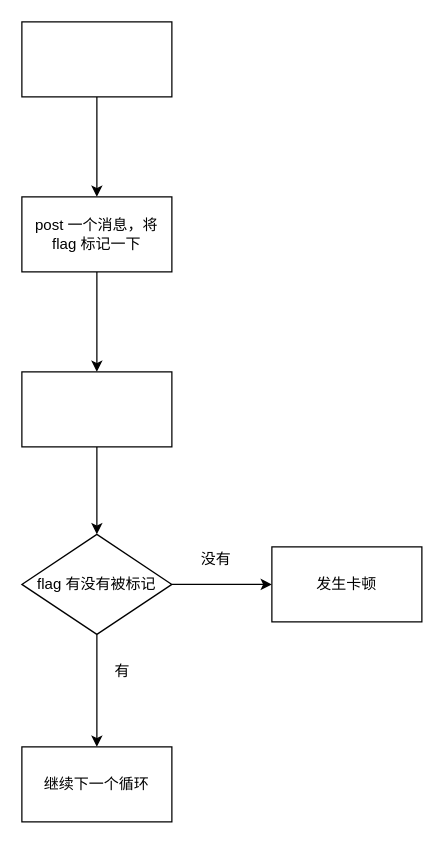
This 444x844 diagram has some shape labels left out. The shapes that lost their labels are listed below. From the top down, each one's centre as x and y in pixels, then its label:
pixel 96 59: start
pixel 96 409: 延时 5 s 去检测
